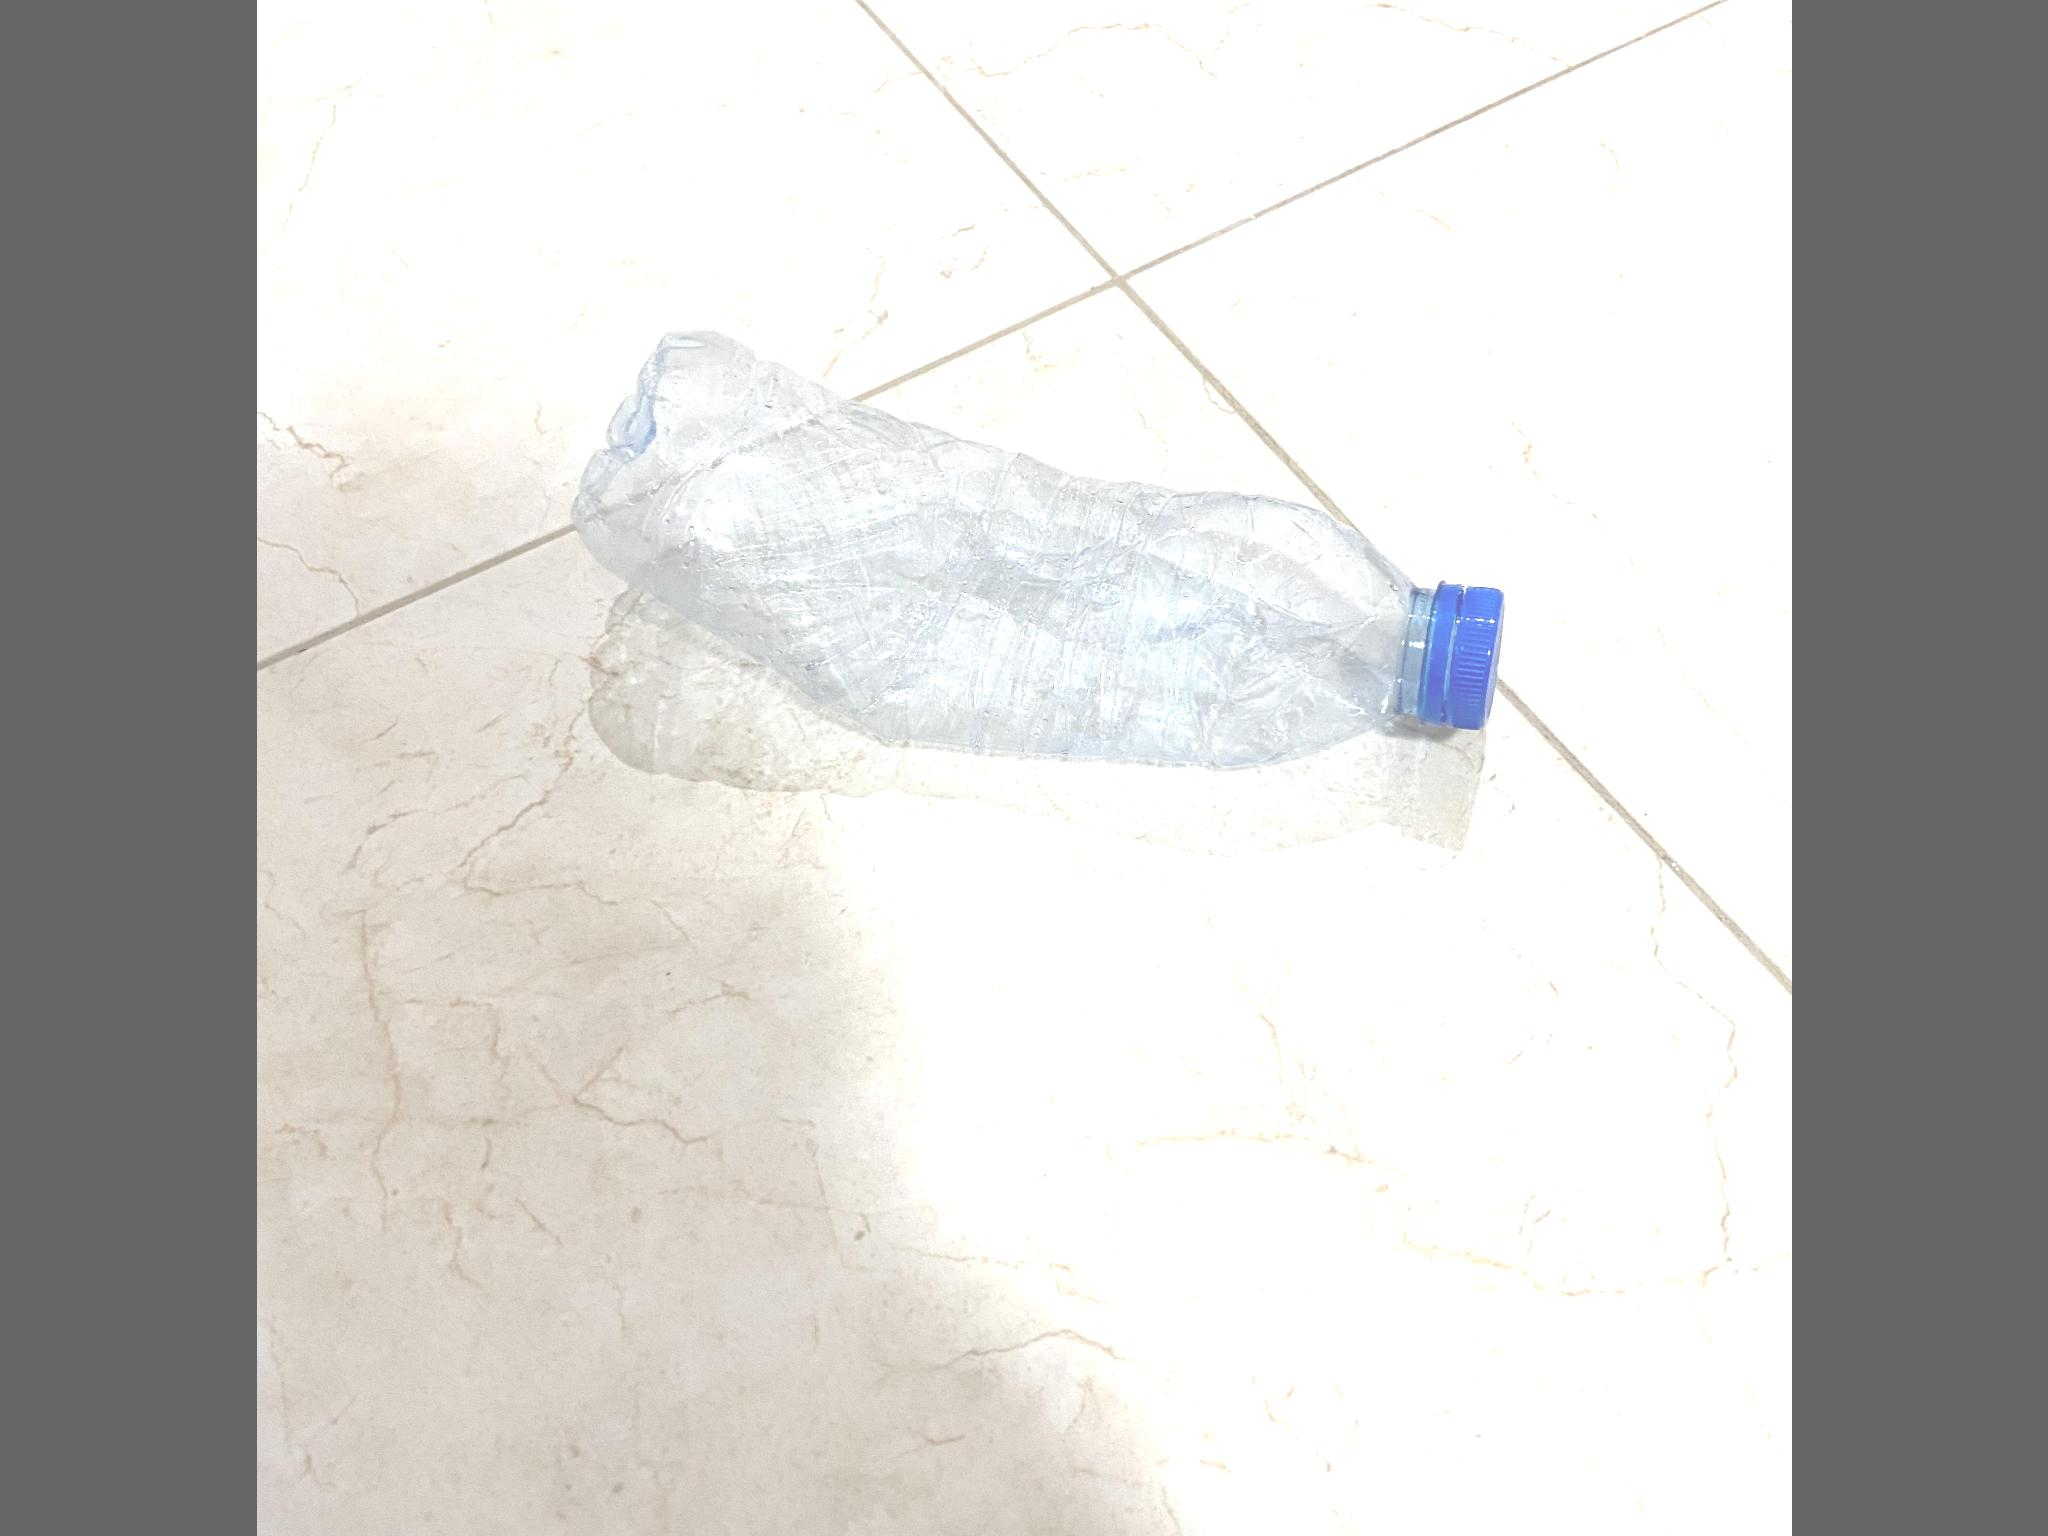bottle: (564, 320, 1504, 784)
